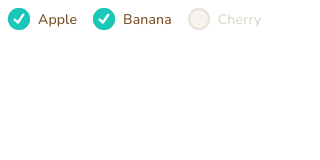
Test: Checkbox › uncontrolled 模式 › 点击已选中项 → 从集合中移除
Click the checkbox labelled "Apple" at (19, 19), box [8,8,30,30]
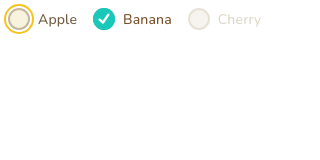
Now the checkbox labelled "Apple" is not checked, box [8,8,30,30]
